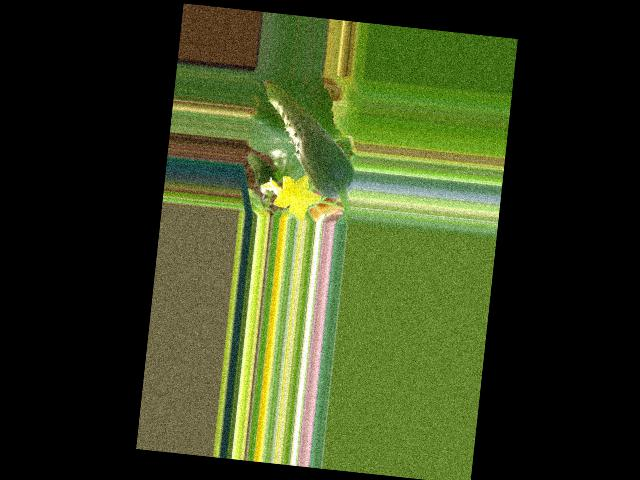cucumber: (251, 80, 363, 200)
